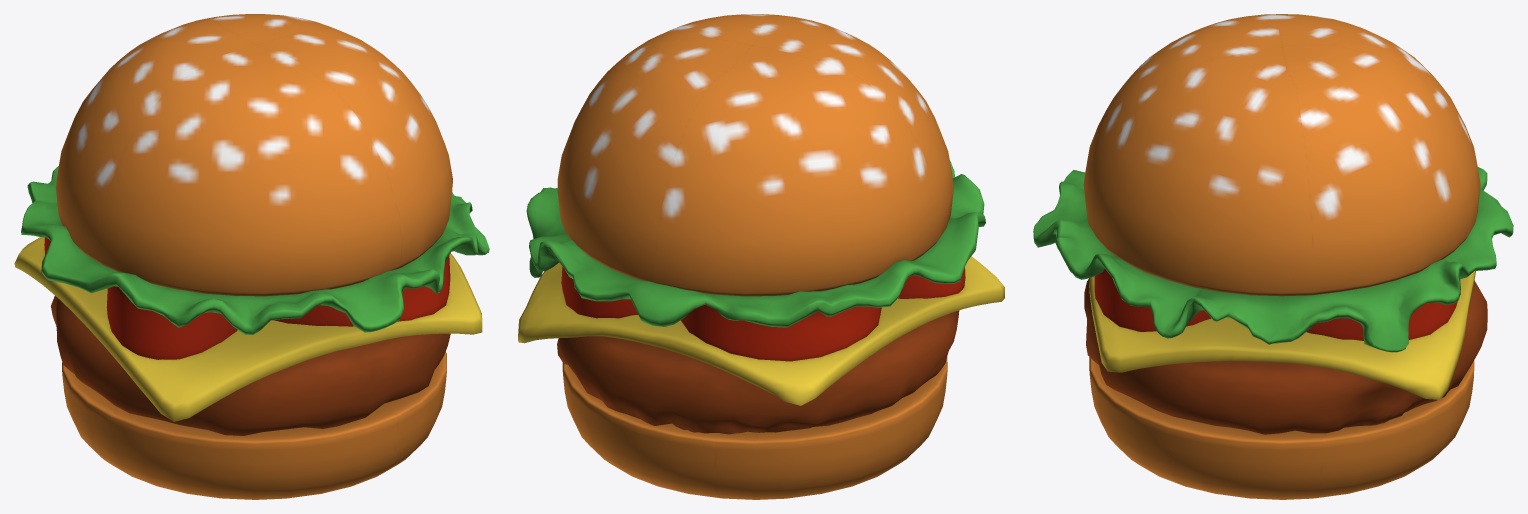
File: cheeseburger.glb
3 views of the same model, side by side, from view 1: azimuth 30°, elevation 25°; view 2: azimuth 150°, elevation 25°; view 3: azimuth 270°, elevation 25° (orthographic).
Parts seen in each view (by area): view 1: Cheeseburger.1; view 2: Cheeseburger.1; view 3: Cheeseburger.1.
Boxes of the visible parts, <box> form: Cheeseburger.1: <box>14,14,489,499</box>; Cheeseburger.1: <box>518,14,1004,499</box>; Cheeseburger.1: <box>1033,14,1513,499</box>.
Bounding box in the file's own units: 0.1236 × 0.1161 × 0.1262.
Materials: 1 (1 with a texture image).
